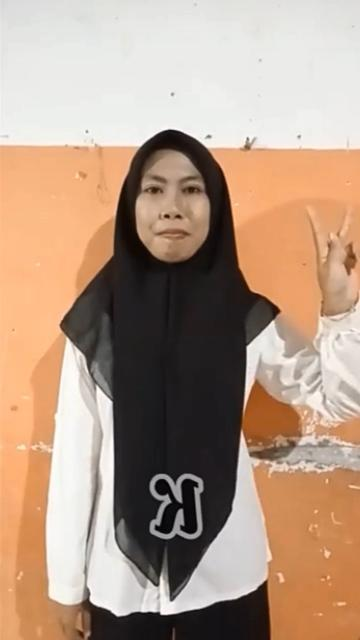K: (300, 200, 360, 310)
